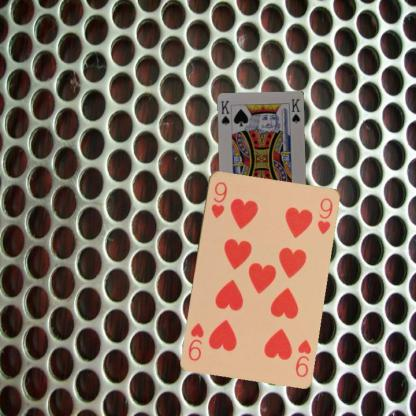9h: (292, 336, 312, 378), (209, 179, 228, 219)
Ks: (219, 98, 231, 127)
